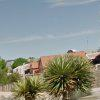Tree: (36, 50, 100, 100)
